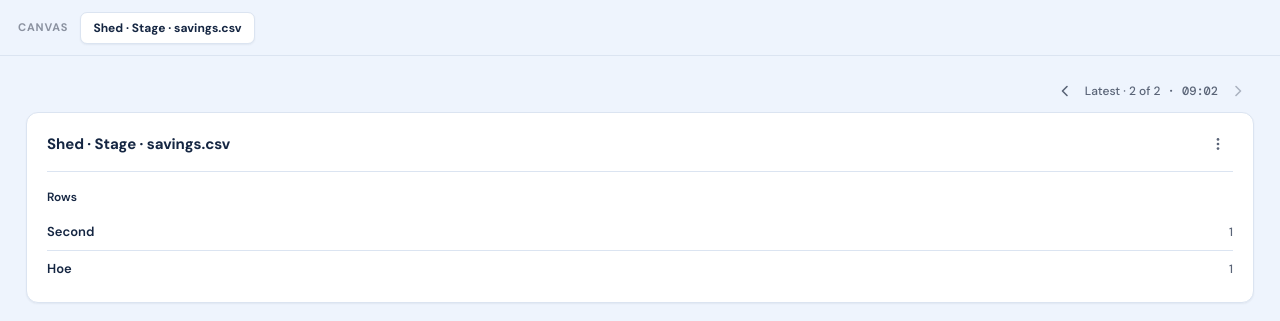
Test: a tab is known by its tool and its subject › steps back to the earlier result inside the tab
The width and height of the screenshot is (1280, 321).
Check: the text "Latest · 2 of 2 · 09:02" is shown, box [1085, 82, 1218, 100]
Check: the text "Second" is shown, box [47, 222, 94, 242]
Click the button named "Earlier result" at (1065, 91), box [1049, 78, 1081, 104]
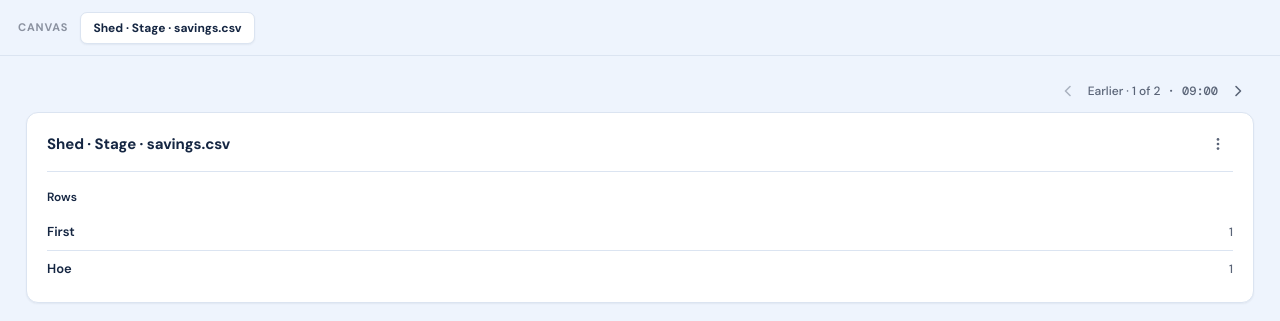
Check: the text "Earlier · 1 of 2 · 09:00" is shown, box [1088, 82, 1218, 100]
Check: the text "First" is shown, box [47, 222, 75, 242]
